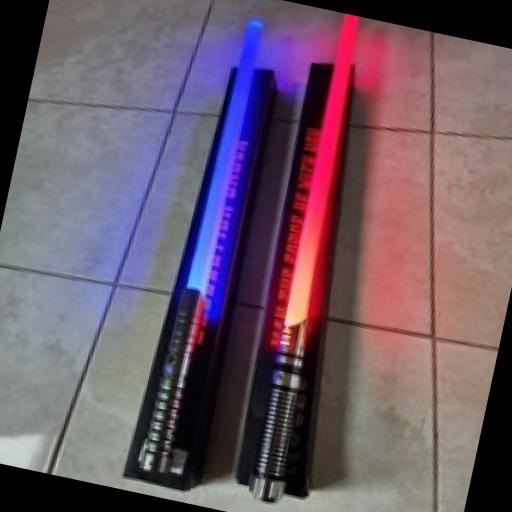lightsaber: (126, 8, 274, 482)
sith saber: (241, 13, 382, 508)
